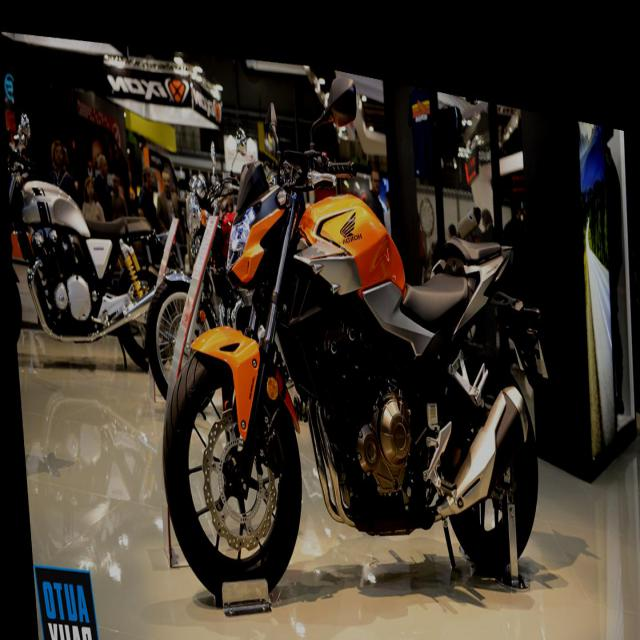CB500F: (135, 106, 550, 639)
